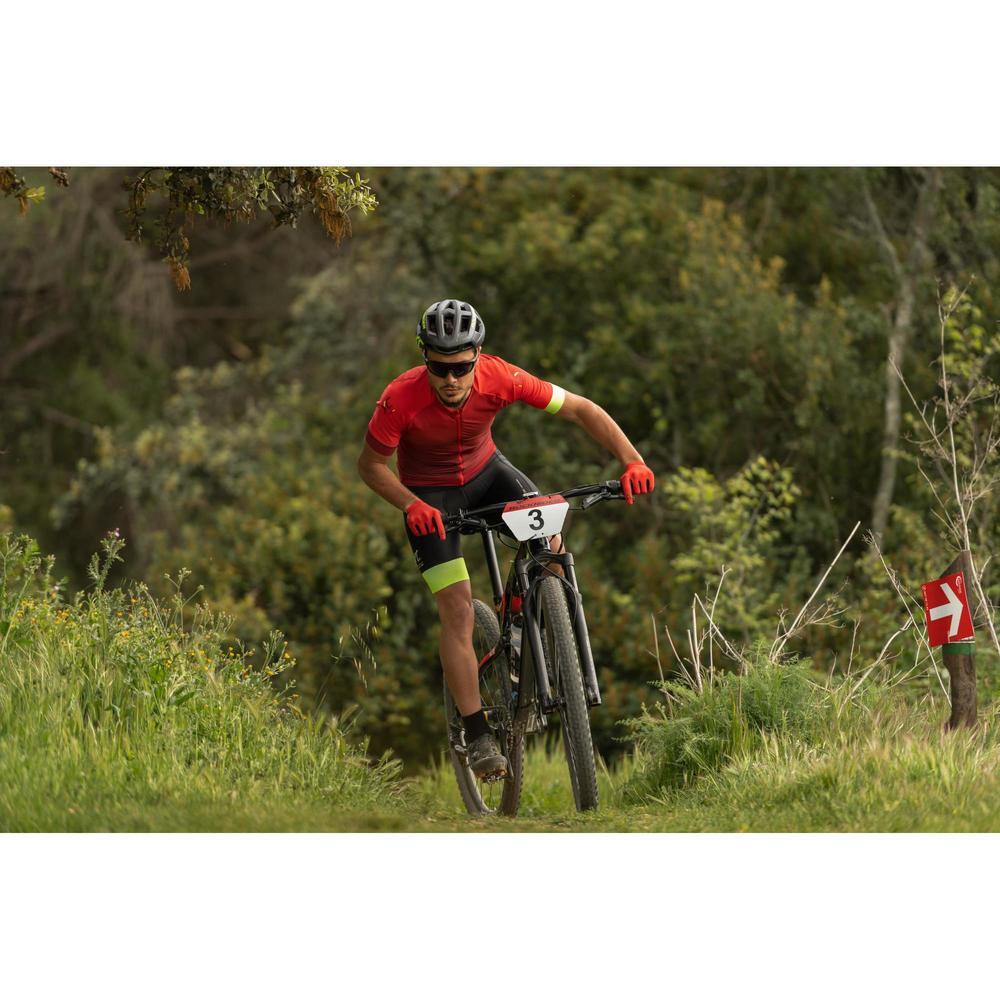MountainBike: (329, 462, 660, 816)
